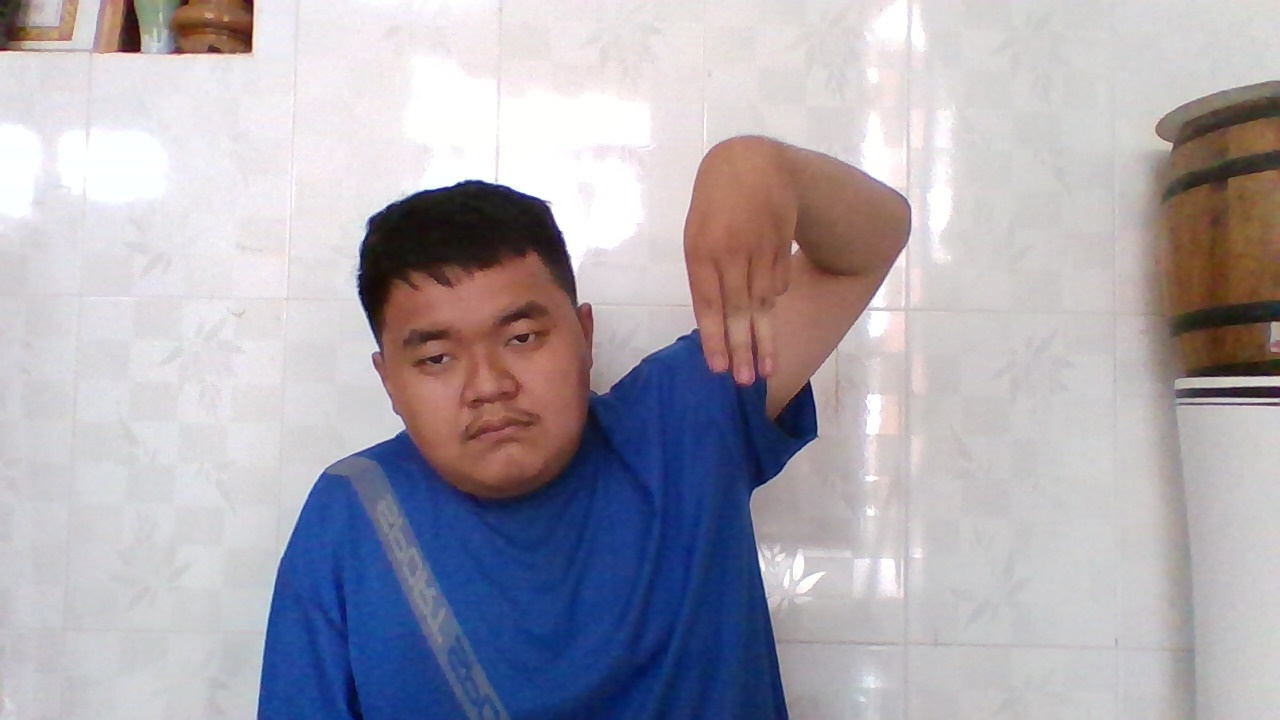M: (680, 132, 801, 393)
